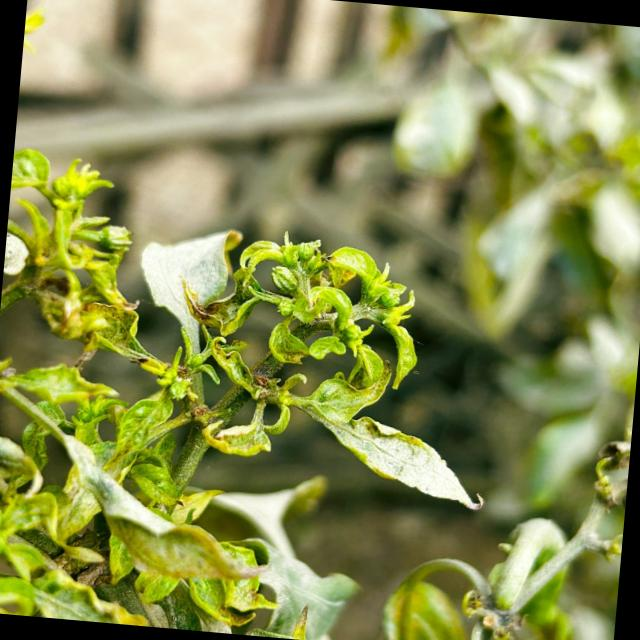Chilli_Leaf_Curl: (0, 146, 511, 640), (162, 220, 506, 512), (0, 378, 281, 596), (223, 226, 427, 395), (0, 145, 155, 358), (130, 220, 244, 370)
